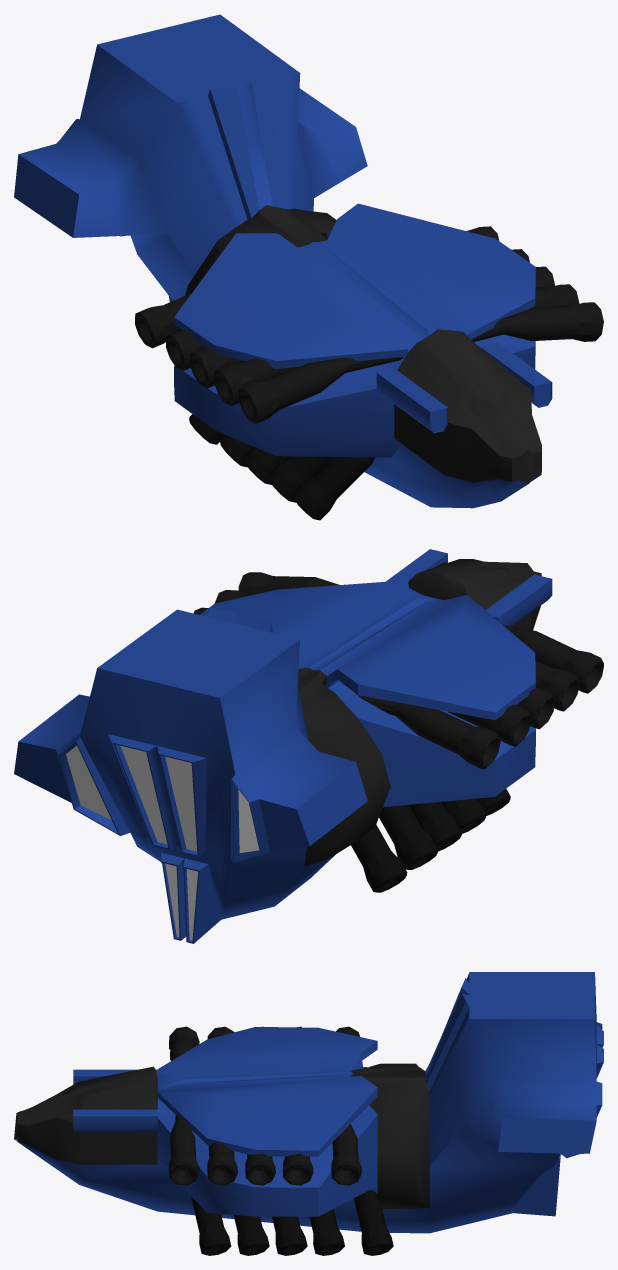
The model's file is Rebel_Bomber.FBX.
3 renders of one model, top to bottom at view 1: azimuth 30°, elevation 25°; view 2: azimuth 150°, elevation 25°; view 3: azimuth 270°, elevation 25°, orthographic. The views are drawn at different scales.
Visible parts, largest first — view 1: Banana Bomber; view 2: Banana Bomber; view 3: Banana Bomber.
Part boxes in pixels (bbox=[...]): Banana Bomber: bbox=[14, 14, 603, 520]; Banana Bomber: bbox=[14, 549, 603, 943]; Banana Bomber: bbox=[14, 972, 603, 1255].
Size of the model in its own units: 455 by 376 by 838.
